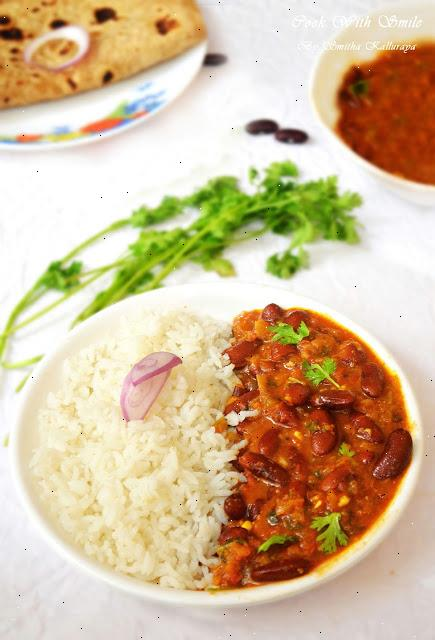rajma: (242, 305, 407, 582)
rice: (70, 315, 212, 607)
